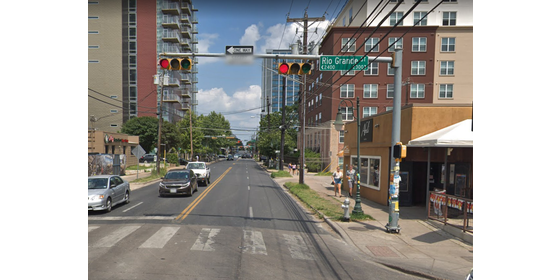except bicycle sign: (221, 55, 257, 65)
one way arrow sign: (222, 45, 255, 54)
street name sign: (318, 54, 372, 73)
